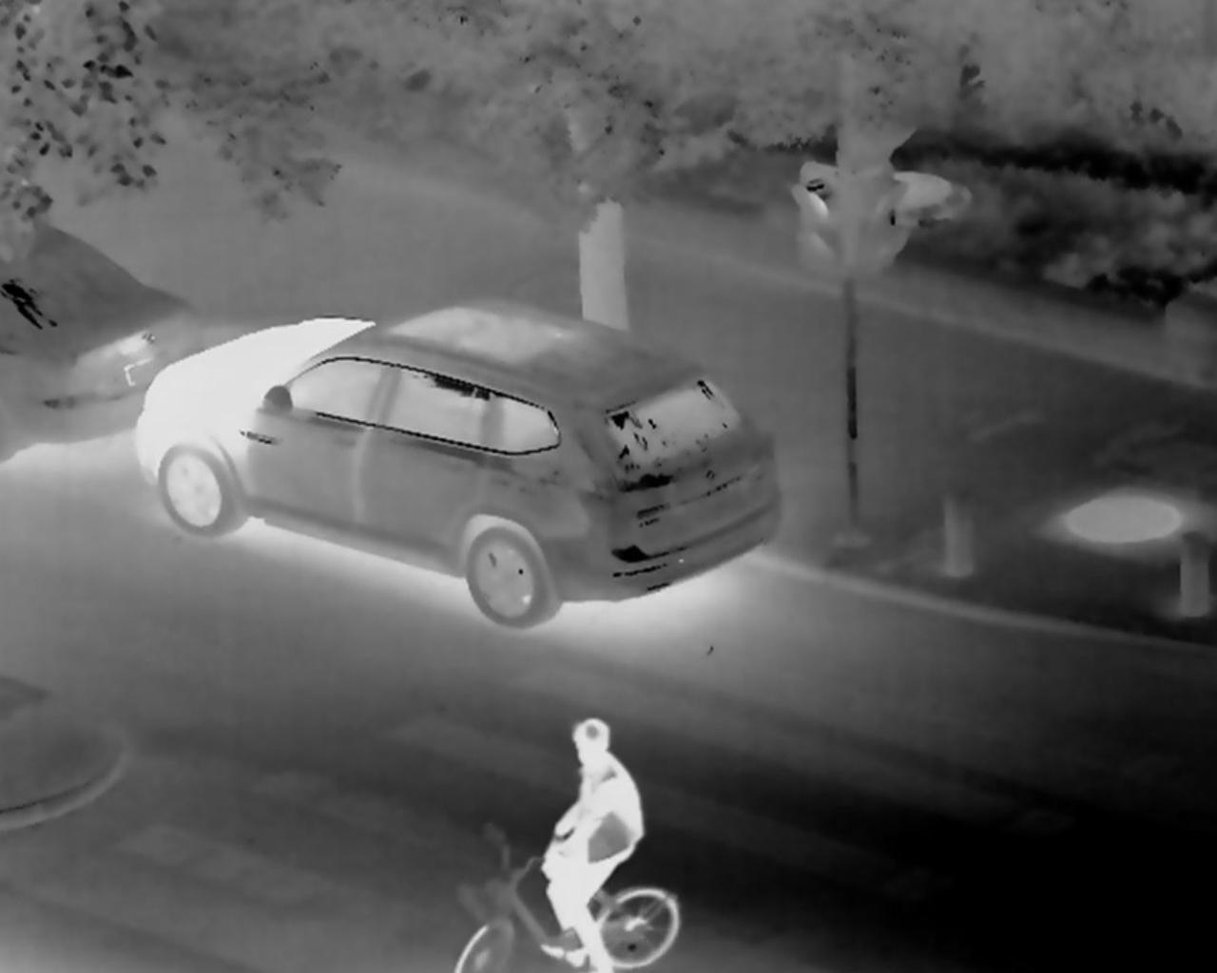person: (537, 715, 644, 973)
